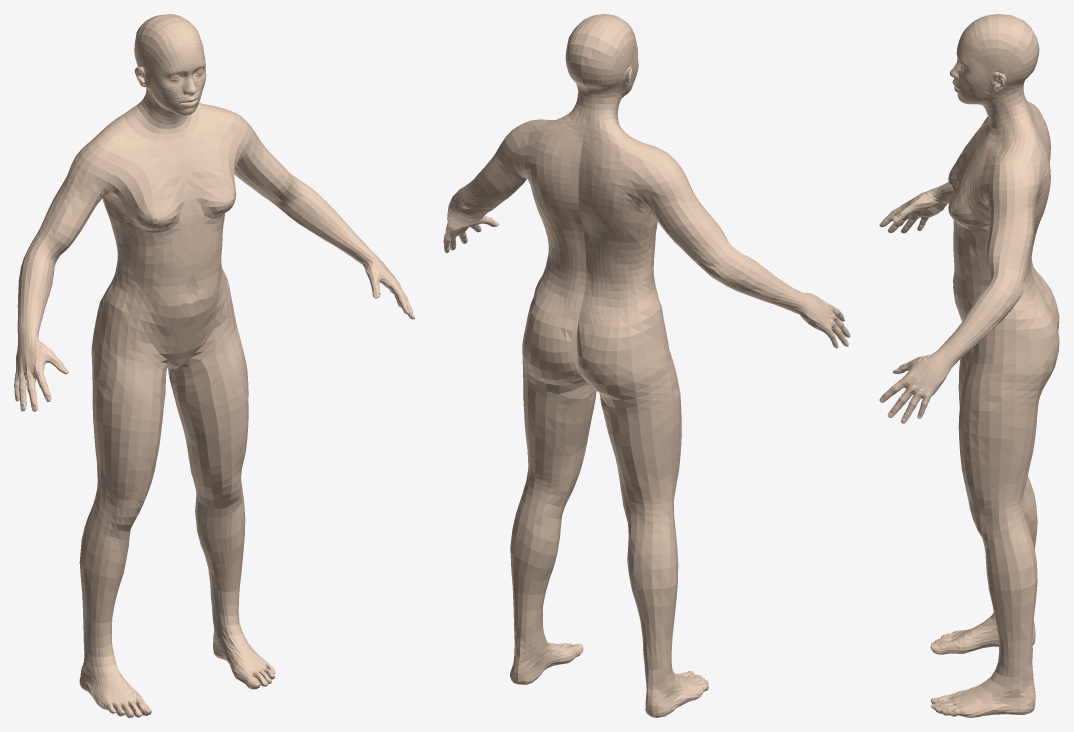
The model's file is female-young-heavy-strong.glb.
3 views of the same model, side by side, from view 1: azimuth 30°, elevation 25°; view 2: azimuth 150°, elevation 25°; view 3: azimuth 270°, elevation 25° (orthographic).
Parts seen in each view (by area): view 1: world; view 2: world; view 3: world.
Boxes of the visible parts, box(x1,y1,x2,y2) form: world: box(14, 14, 414, 717); world: box(443, 14, 850, 717); world: box(879, 14, 1059, 717).
Size of the model in its own units: 1.09 by 1.76 by 0.4323.
